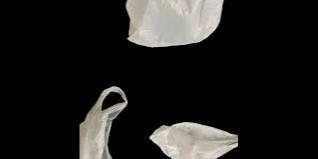Plastic: (126, 0, 239, 48), (80, 80, 142, 158), (145, 125, 239, 158)
